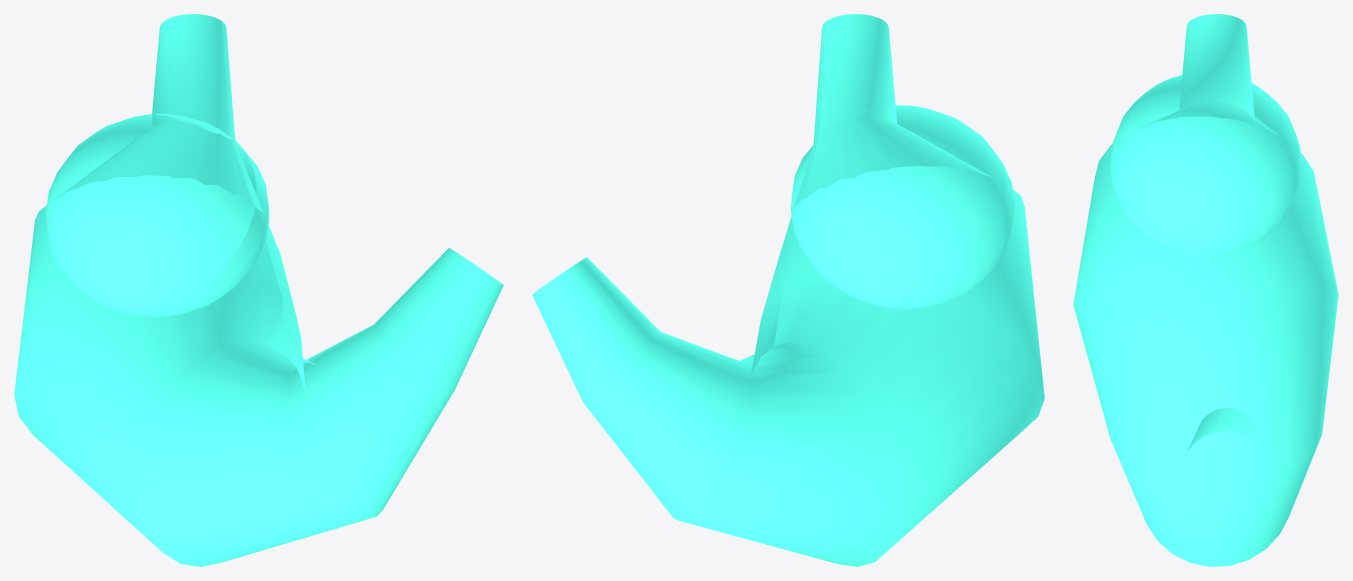
The model's file is stomach.glb.
The picture shows the model from 3 angles, left to right: view 1: azimuth 30°, elevation 25°; view 2: azimuth 150°, elevation 25°; view 3: azimuth 270°, elevation 25°; orthographic projection. The views are drawn at different scales.
Visible parts, largest first — view 1: Stomach; view 2: Stomach; view 3: Stomach.
Boxes of the visible parts, left/top/right/bottom form: Stomach: left=14, top=14, right=503, bottom=566; Stomach: left=532, top=14, right=1044, bottom=566; Stomach: left=1073, top=14, right=1338, bottom=566.
Size of the model in its own units: 2.3 by 2.42 by 1.24.
